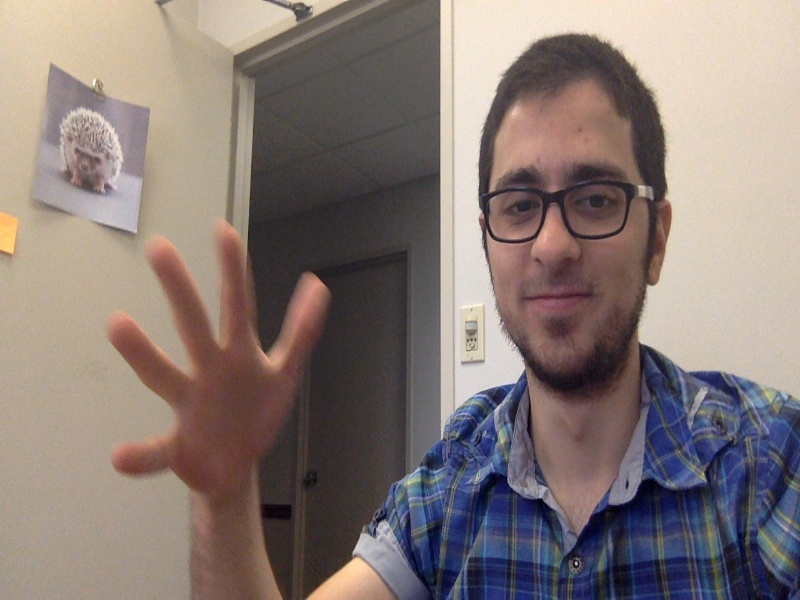5-hand: (102, 227, 331, 502)
